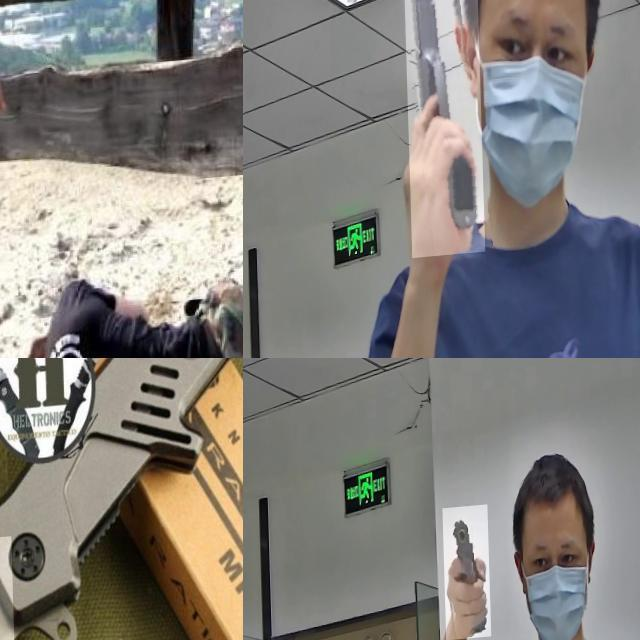-: (0, 541, 149, 640), (0, 0, 53, 54)
gun-knife-thesis - v11 Yolov5 augmented: (402, 0, 482, 262), (439, 509, 487, 640)
